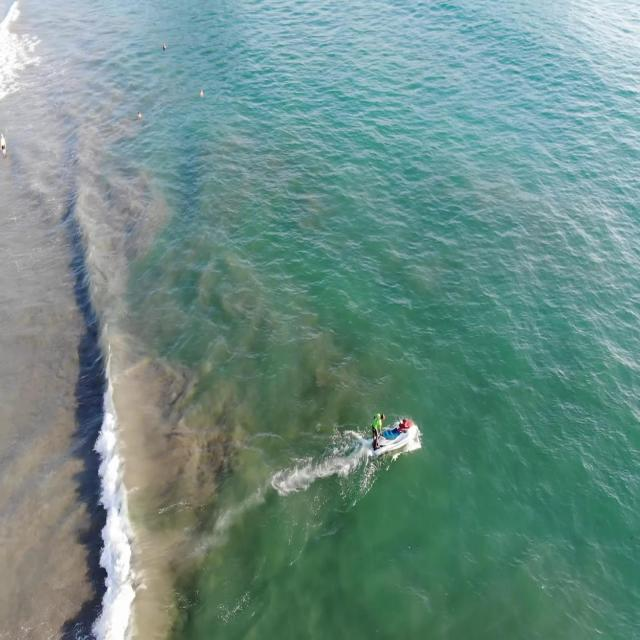boat: (366, 405, 419, 463)
